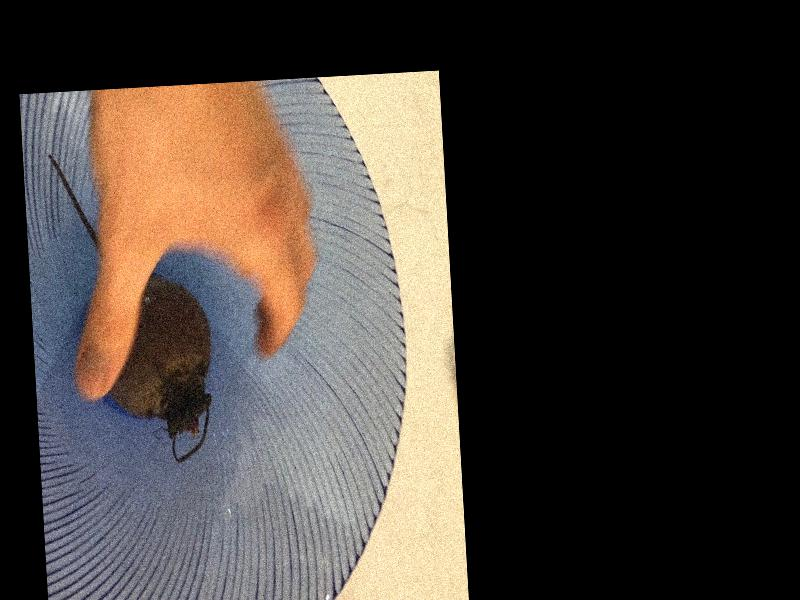Beet: (48, 146, 218, 468)
